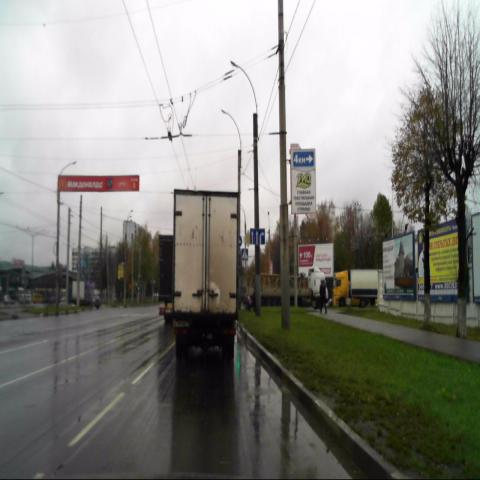5_15_1: (250, 228, 264, 245)
